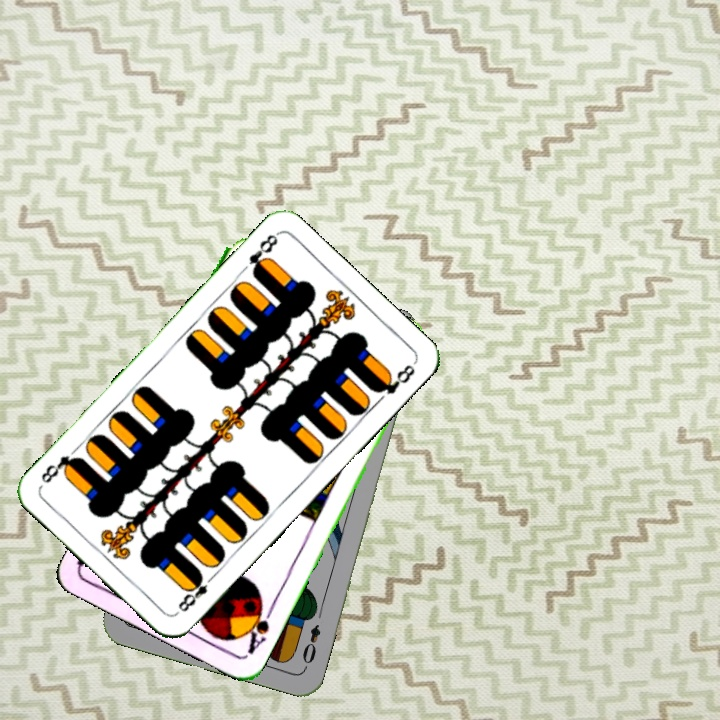E8: (174, 569, 219, 615), (244, 230, 281, 279)
EO: (298, 620, 324, 672)
SA: (239, 597, 277, 657)
